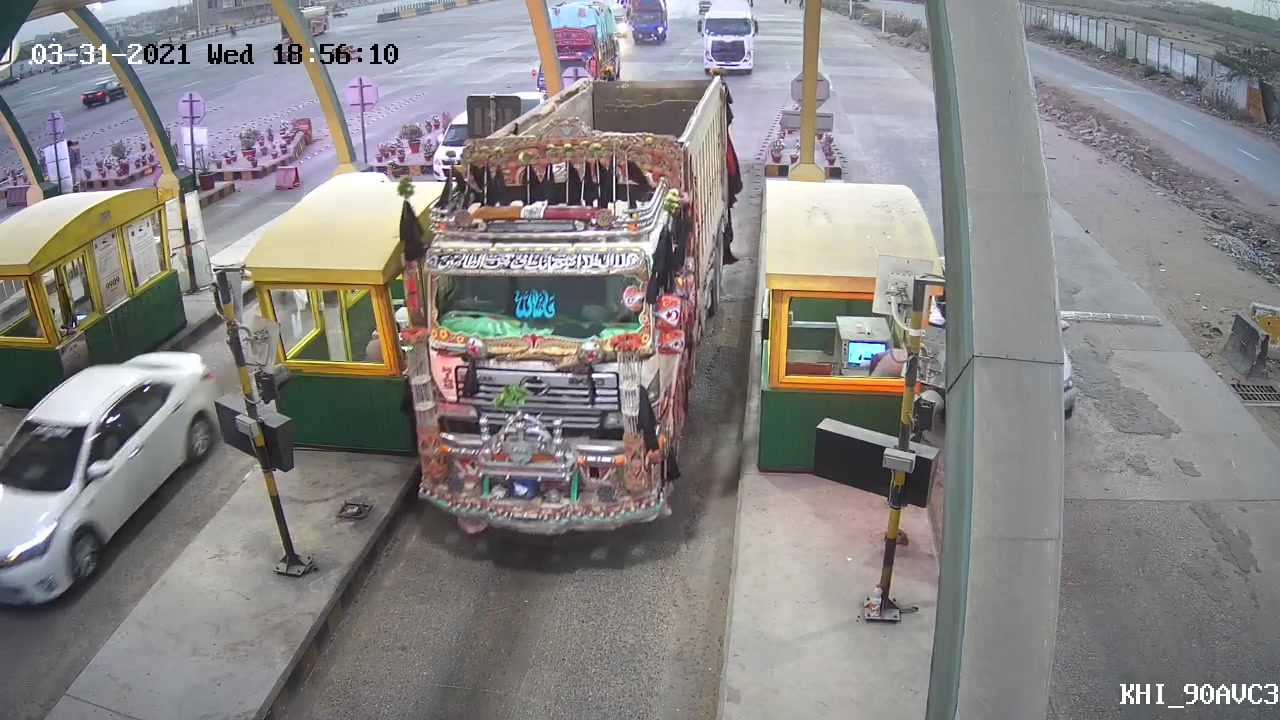F5: (393, 75, 723, 543)
